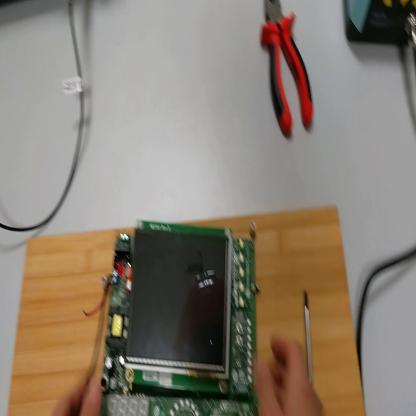hand: (258, 331, 327, 416), (55, 370, 102, 414)
low voltage board: (85, 224, 262, 415)
pliers: (259, 2, 315, 140)
screwdriver-: (304, 291, 318, 383)
welder station: (344, 2, 416, 49)
working area: (10, 204, 366, 414)
